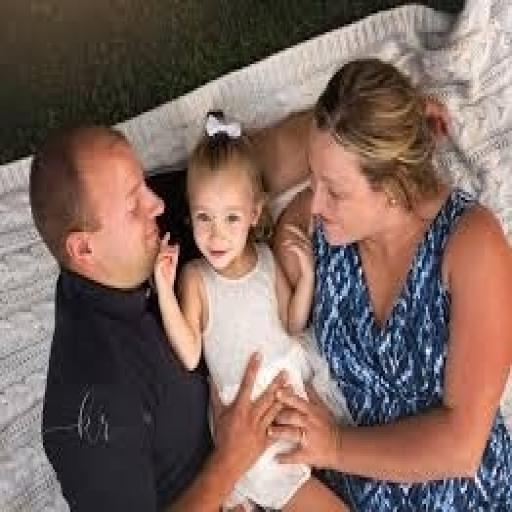hugging: (25, 54, 510, 510)
